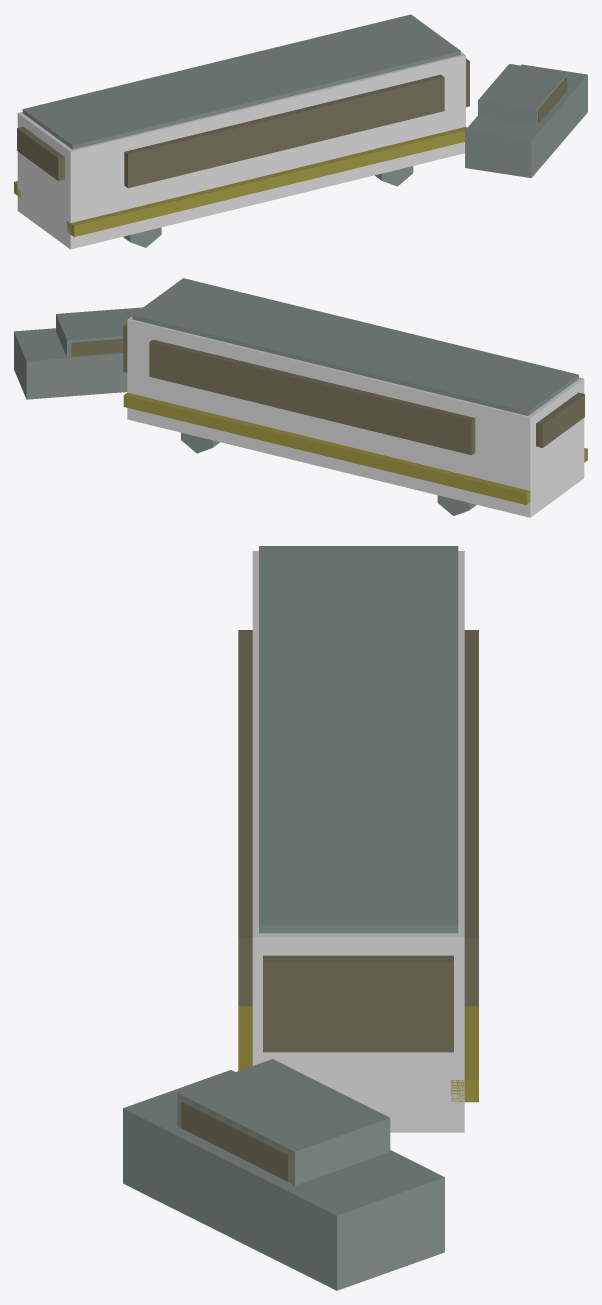
The model's file is SM_AutobusCruzado_v4_Empujado_LOD1.fbx.
3 views of the same model, one above another, from view 1: azimuth 30°, elevation 25°; view 2: azimuth 150°, elevation 25°; view 3: azimuth 270°, elevation 25° (orthographic). The views are drawn at different scales.
Visible parts, largest first — view 1: SM_aqui_paso_algo_v19_LOD1; view 2: SM_aqui_paso_algo_v19_LOD1; view 3: SM_aqui_paso_algo_v19_LOD1.
Part boxes in pixels (box(x1,y1,x2,y2)): SM_aqui_paso_algo_v19_LOD1: box(14, 14, 587, 249); SM_aqui_paso_algo_v19_LOD1: box(14, 278, 587, 517); SM_aqui_paso_algo_v19_LOD1: box(123, 546, 478, 1290).
Bounding box in the file's own units: 15.16 × 3.16 × 4.29.
